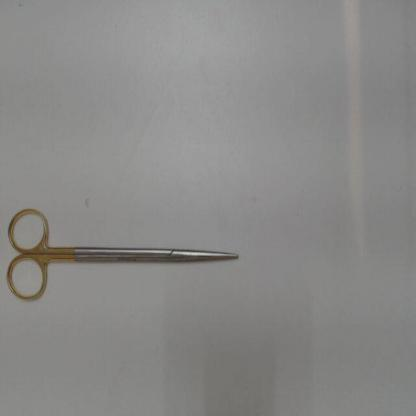7 Metzenbaum Scissors: (4, 204, 238, 304)
